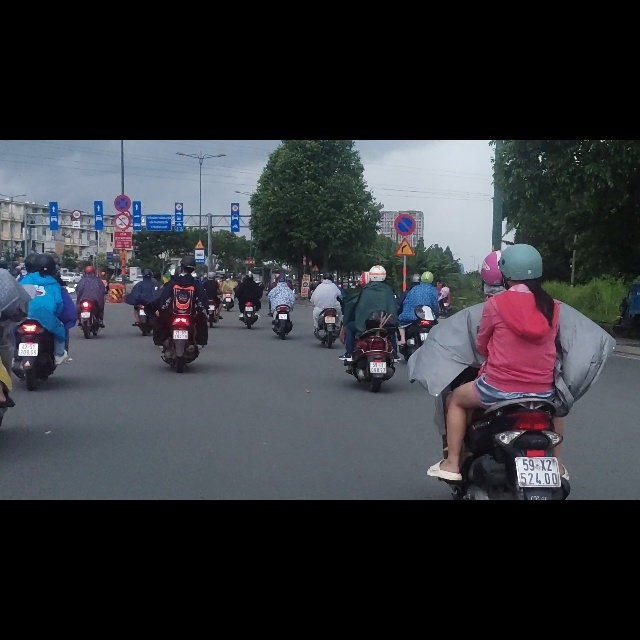bien_chi_dan: (394, 130, 416, 171), (394, 172, 416, 207), (113, 130, 131, 161), (114, 97, 131, 127), (194, 194, 205, 219), (194, 176, 205, 193), (71, 124, 81, 141), (231, 116, 239, 127), (175, 113, 182, 125)
